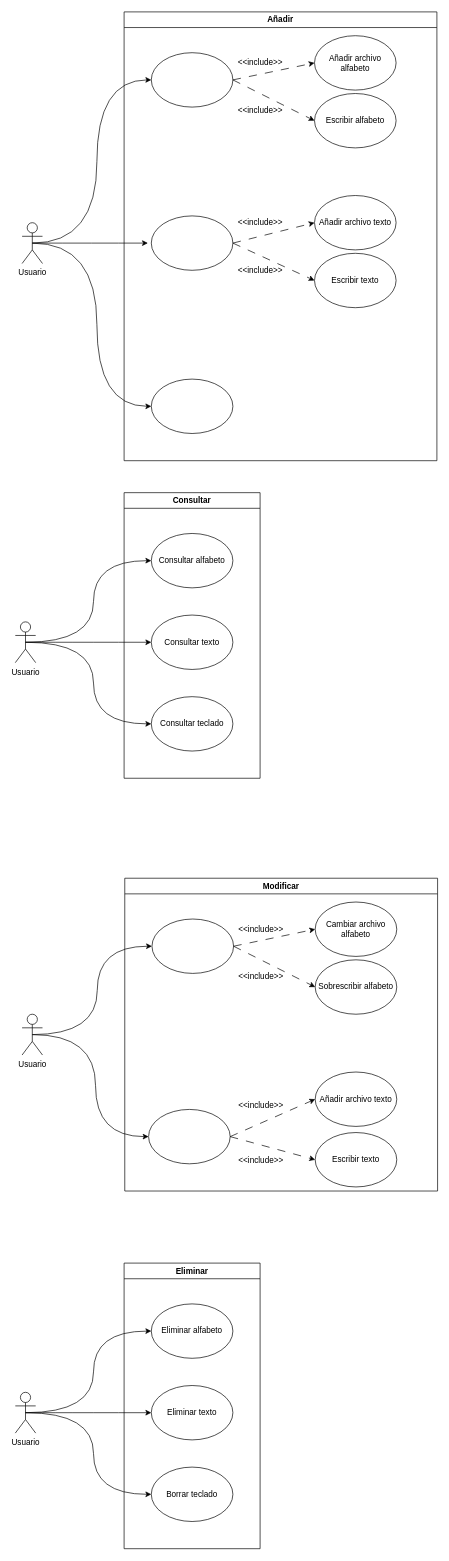
This 449x1561 diagram has some shape labels left out. The centre of each missing label's shape, as x and y in pixels:
"Añadir alfabeto" belongs at point (192, 79).
"Añadir texto" belongs at point (192, 242).
"Generar teclado" belongs at point (192, 406).
"Modificar alfabeto" belongs at point (192, 945).
"Modificar texto" belongs at point (189, 1136).
